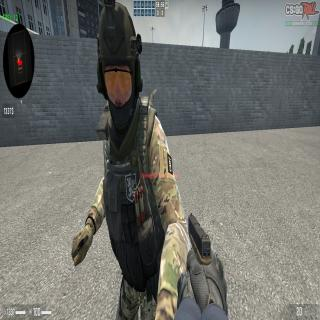CT-Body: (72, 0, 177, 320)
CT-Head: (96, 1, 144, 137)
